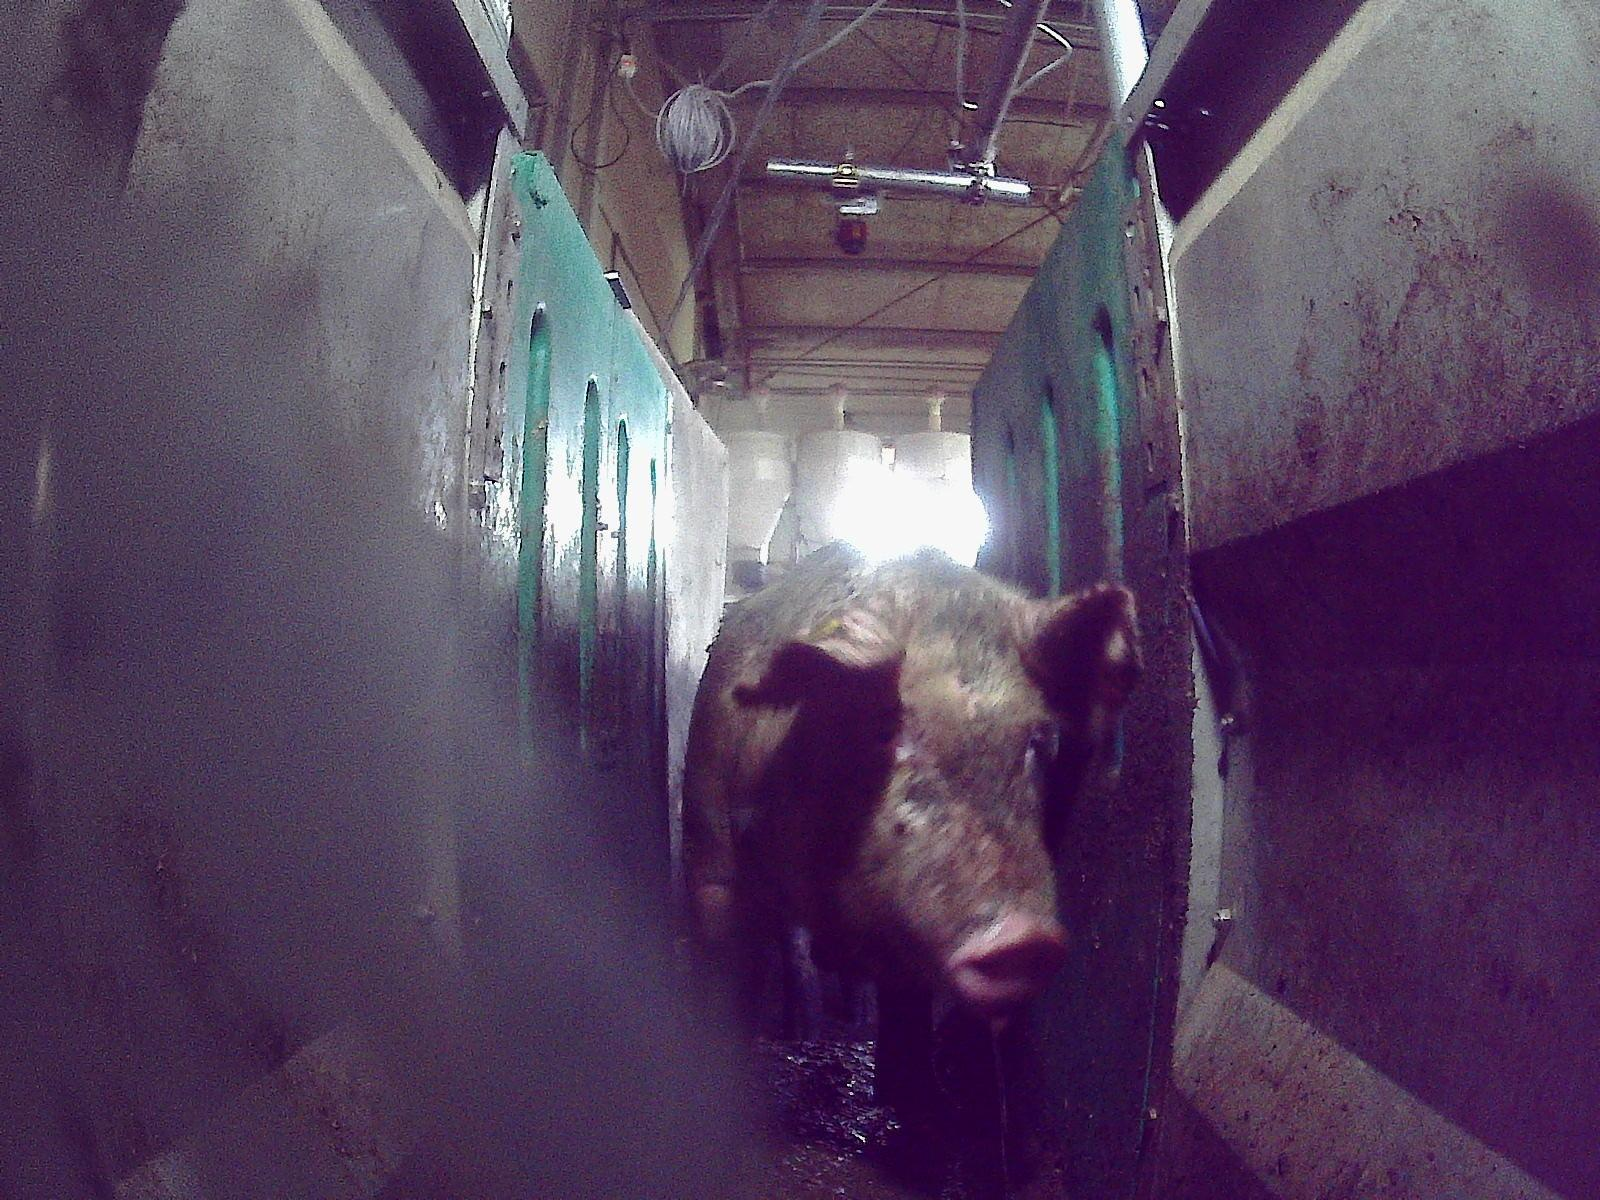Face: (804, 557, 1070, 1019)
